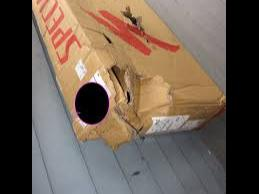damage_box: (32, 0, 225, 150)
